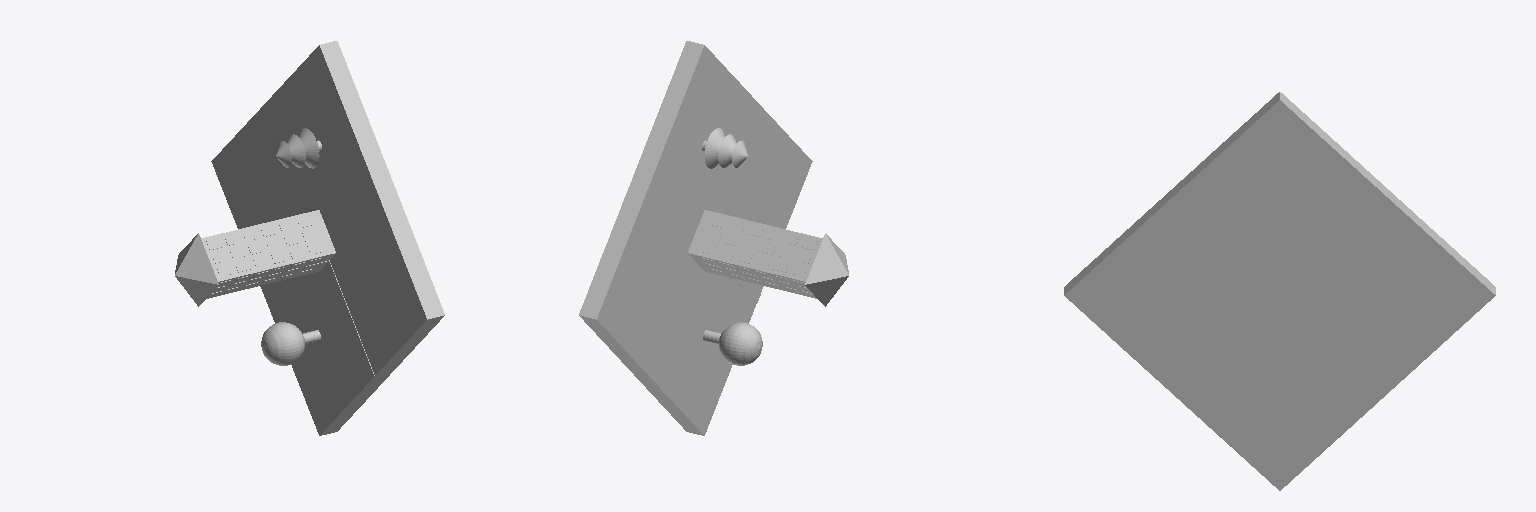
File: starblast-1538732766912.obj
3 views of the same model, side by side, from view 1: azimuth 30°, elevation 25°; view 2: azimuth 150°, elevation 25°; view 3: azimuth 270°, elevation 25° (orthographic).
Size of the model in its own units: 2.7 by 6.2 by 6.2.